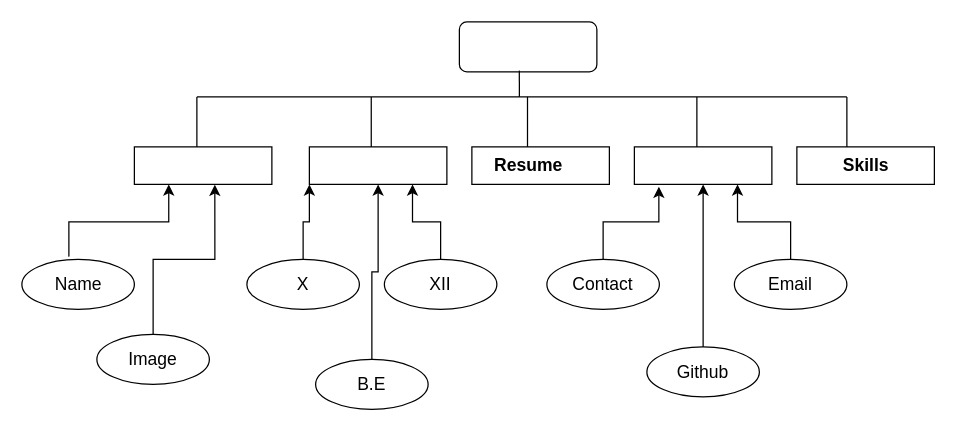
The diagram is 956 pixels wide and 431 high, and some of its shapes have lost their labels. Each missing label, with the centre of its shape:
"About" goes at [702,165].
"Education" goes at [377,165].
"Home Page" goes at [202,165].
"PortFolio" goes at [527,46].
